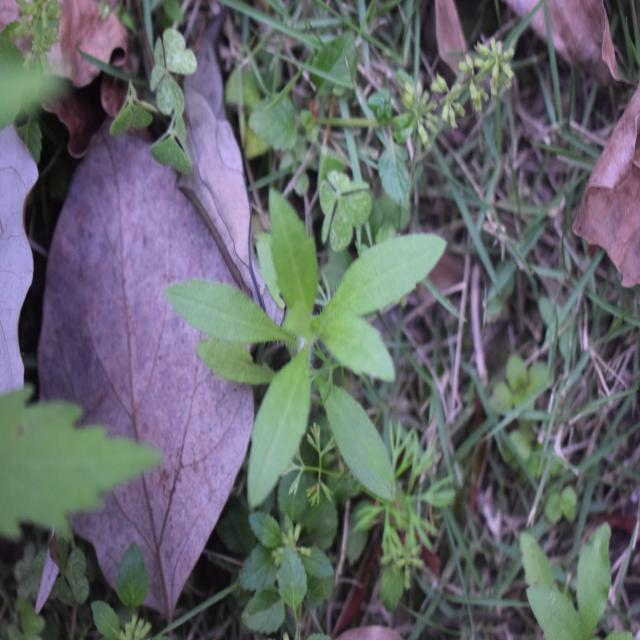horseweed: (188, 189, 434, 495)
